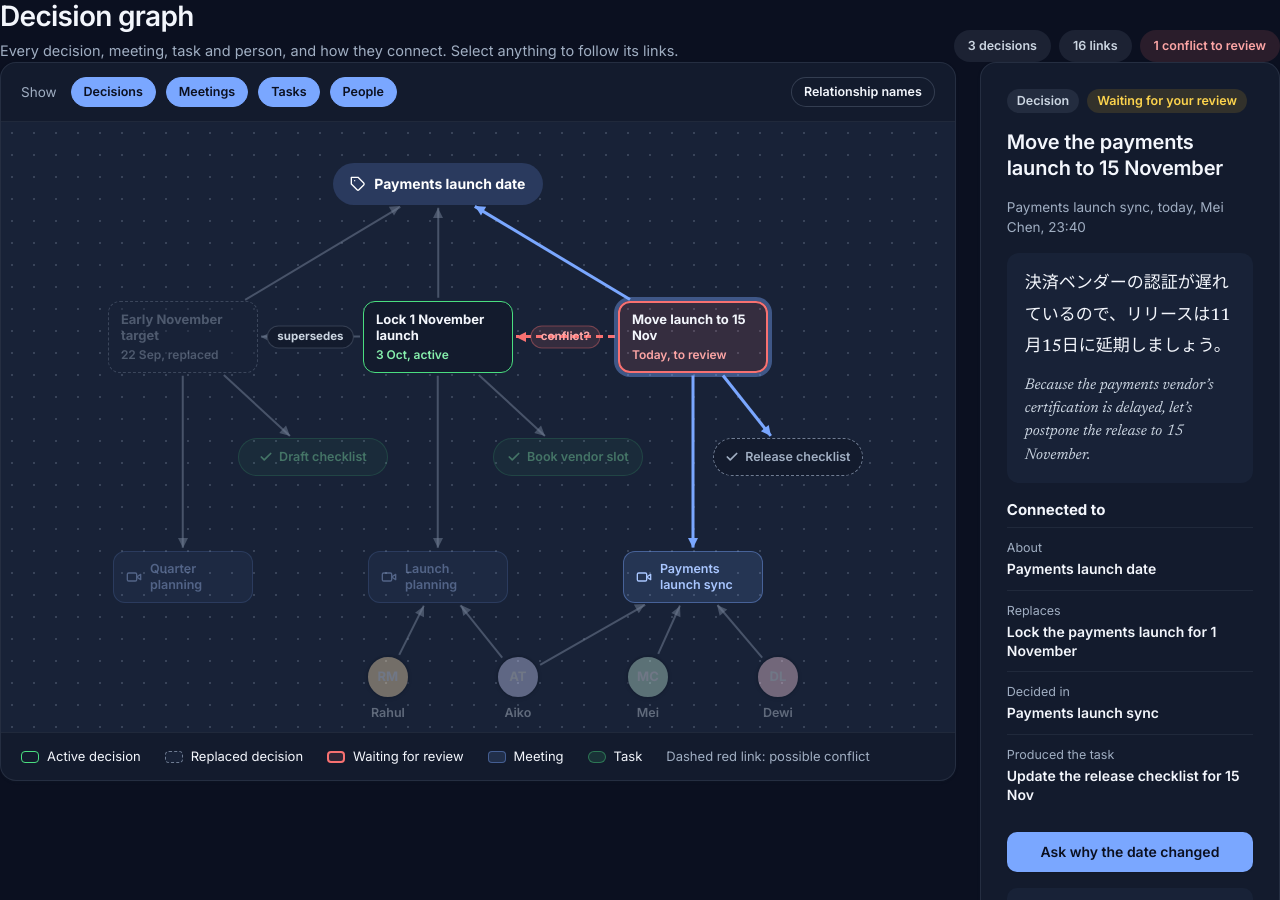
Scenario: filters and labels › moves the selection to the newest decision when the selected kind is hidden
Click the button with aria-label "Task: Draft the launch checklist" at (313, 457), box [238,438,388,476]
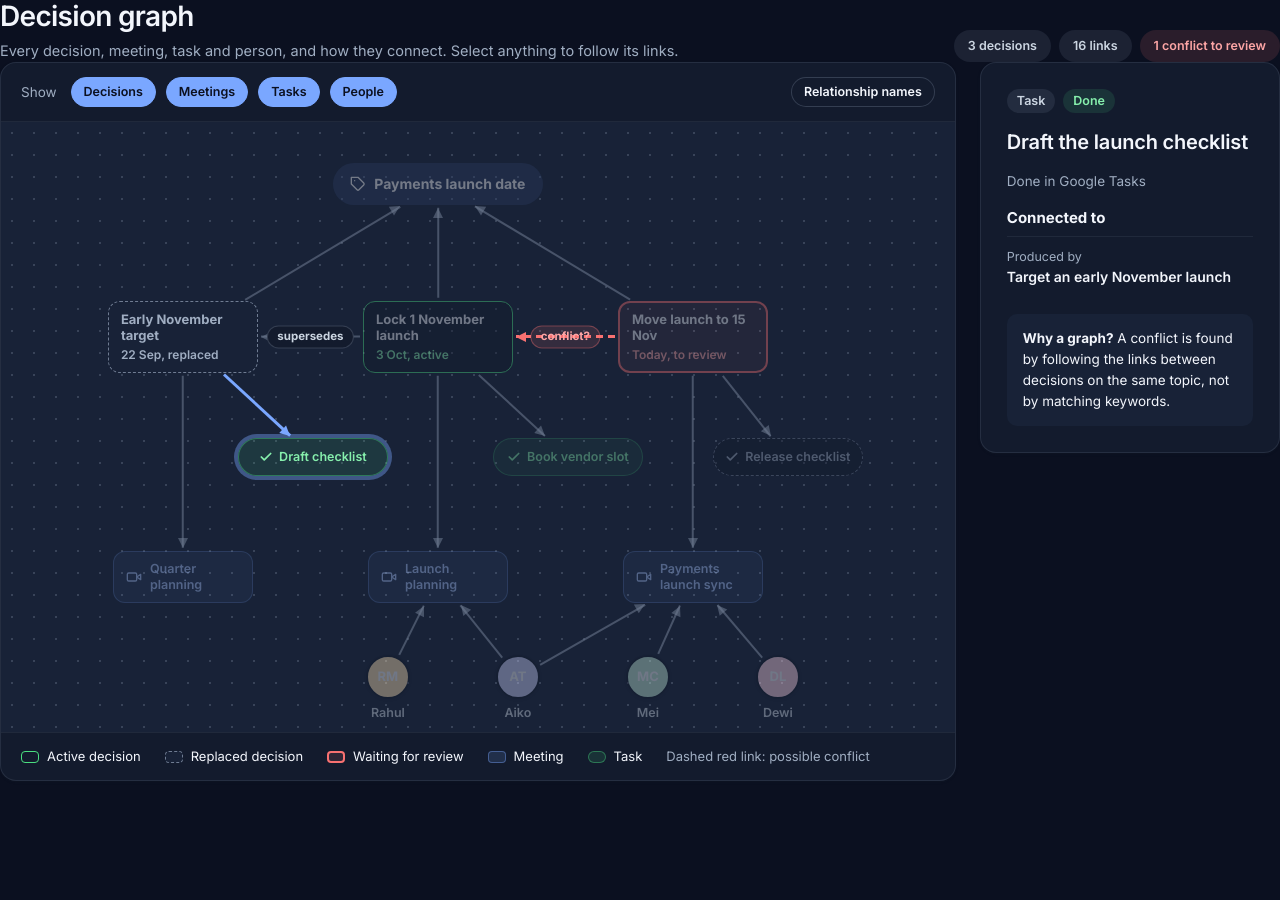
Expected: the heading "Draft the launch checklist" is shown, [1007,129,1253,155]
Click the button "Tasks" at (289, 92), box [258,77,320,107]
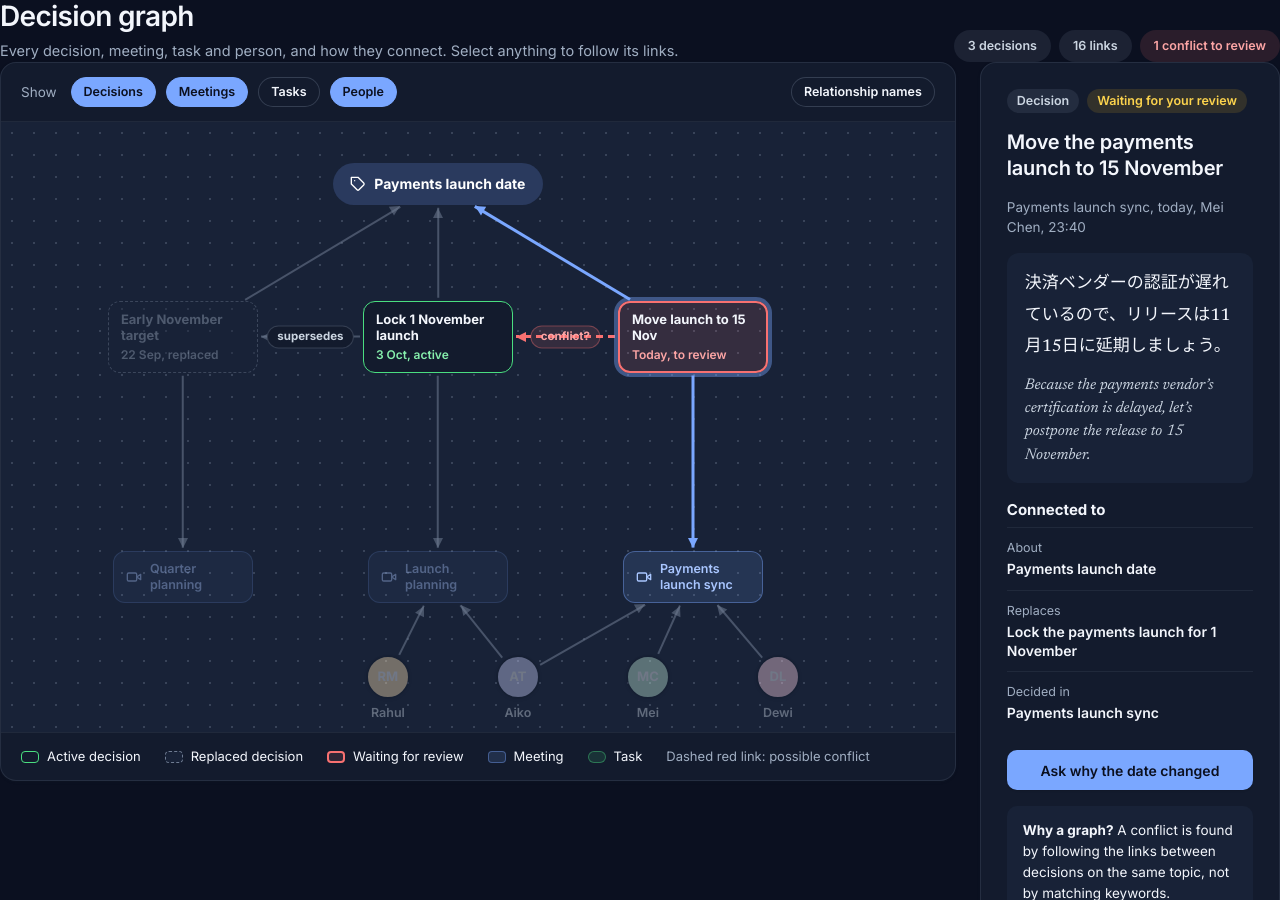
Expected: the heading "Move the payments launch to 15 November" is shown, [1007,129,1253,181]
